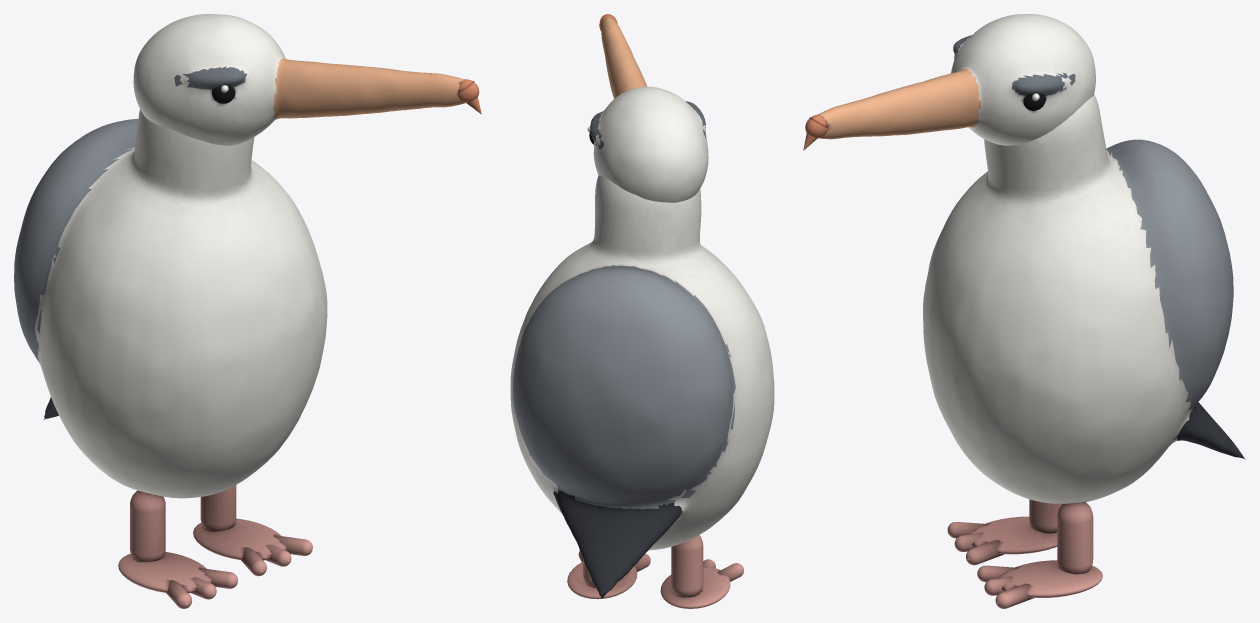
File: ska-vi-ga-pa-bio.glb
3 views of the same model, side by side, from view 1: azimuth 30°, elevation 25°; view 2: azimuth 150°, elevation 25°; view 3: azimuth 270°, elevation 25° (orthographic). The views are drawn at different scales.
Visible parts, largest first — view 1: albatroz__r0, cabeca__r0, albatroz__r2, albatroz__r1, albatroz__r7, albatroz__r6; view 2: albatroz__r0, cabeca__r0, albatroz__r1, albatroz__r2, albatroz__r7; view 3: albatroz__r0, cabeca__r0, albatroz__r7, albatroz__r6, albatroz__r2, albatroz__r1.
Boxes of the visible parts, left/top/right/bottom form: albatroz__r0: left=14, top=109, right=327, bottom=498; cabeca__r0: left=133, top=14, right=464, bottom=145; albatroz__r2: left=118, top=552, right=211, bottom=593; albatroz__r1: left=130, top=490, right=165, bottom=561; albatroz__r7: left=193, top=518, right=286, bottom=560; albatroz__r6: left=200, top=485, right=236, bottom=531; albatroz__r0: left=510, top=175, right=774, bottom=598; cabeca__r0: left=590, top=17, right=708, bottom=202; albatroz__r1: left=671, top=535, right=703, bottom=597; albatroz__r2: left=660, top=567, right=730, bottom=608; albatroz__r7: left=567, top=562, right=637, bottom=599; albatroz__r0: left=923, top=94, right=1245, bottom=504; cabeca__r0: left=818, top=14, right=1095, bottom=145; albatroz__r7: left=999, top=560, right=1102, bottom=597; albatroz__r6: left=1057, top=502, right=1093, bottom=573; albatroz__r2: left=969, top=516, right=1057, bottom=554; albatroz__r1: left=1029, top=499, right=1061, bottom=533.
Size of the model in its own units: 1.15 by 2.03 by 1.48.
